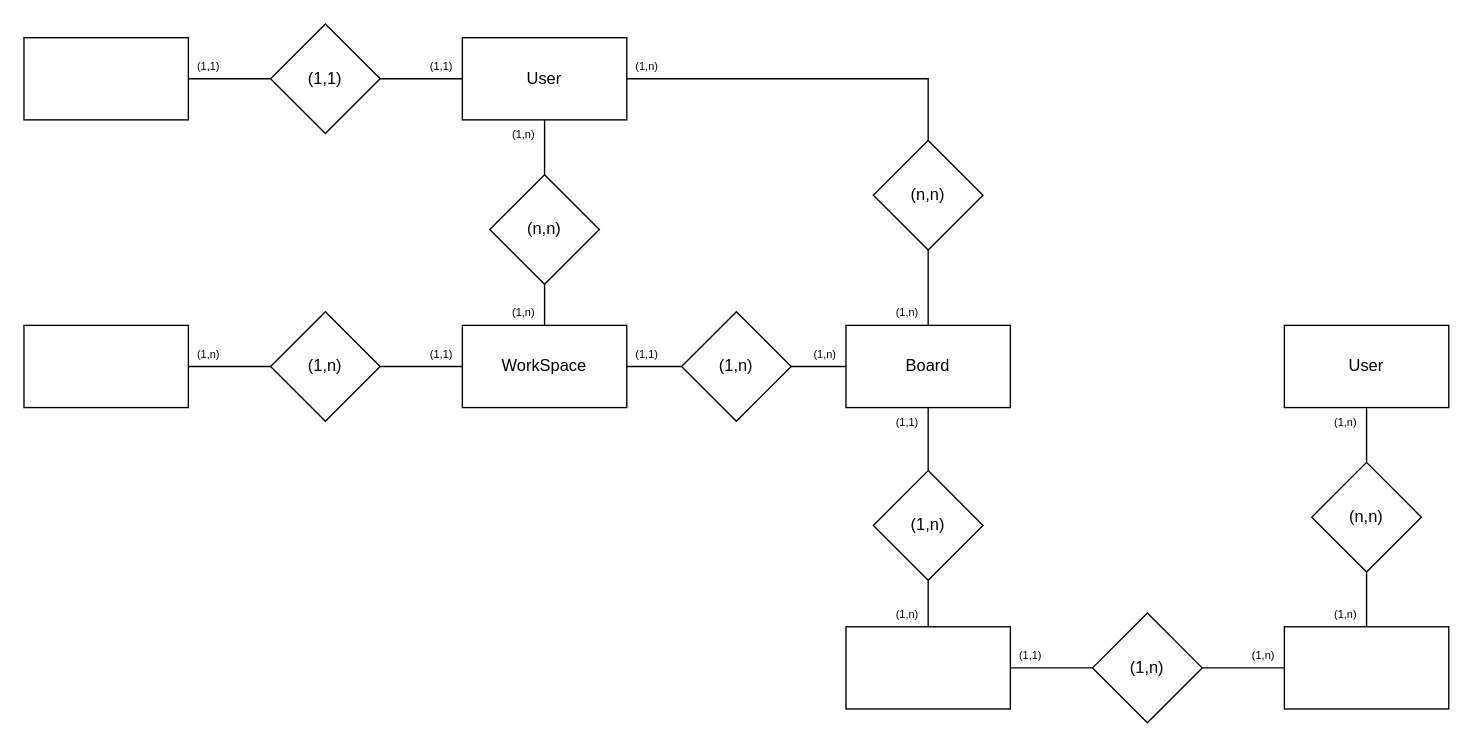
Image size: 1473x747. Some labels were removed from this diagram. Here are the shapes that lost their labels. From the top down, the centre of each, then its label:
the point at 105,78: User Profile
the point at 105,366: WorkSpace History
the point at 927,667: Task List
the point at 1366,667: Task
